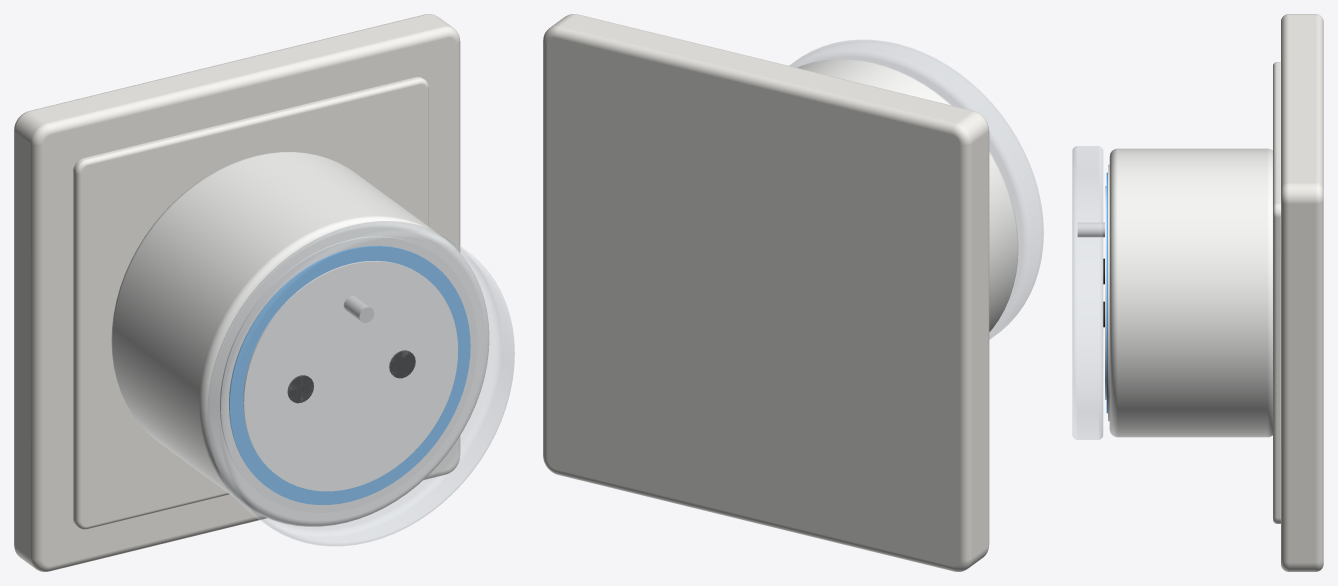
Rendered from fibaro_zwave_plug.glb.
3 renders of one model, left to right at view 1: azimuth 30°, elevation 25°; view 2: azimuth 150°, elevation 25°; view 3: azimuth 270°, elevation 25°, orthographic. The views are drawn at different scales.
Visible parts, largest first — view 1: fibaro_zwave_plug; view 2: fibaro_zwave_plug; view 3: fibaro_zwave_plug.
Boxes of the visible parts, left/top/right/bottom form: fibaro_zwave_plug: left=14, top=14, right=514, bottom=571; fibaro_zwave_plug: left=543, top=14, right=1043, bottom=571; fibaro_zwave_plug: left=1072, top=14, right=1323, bottom=571.
Bounding box in the file's own units: 0.08 × 0.08 × 0.047.
